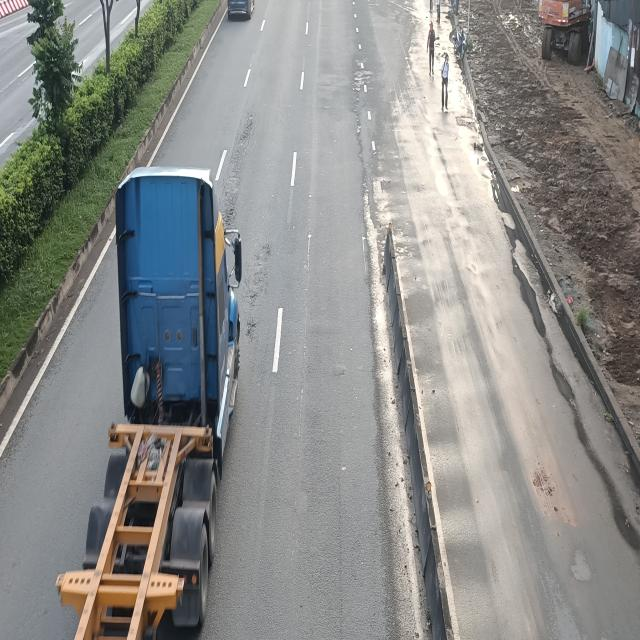container: (56, 171, 242, 640)
